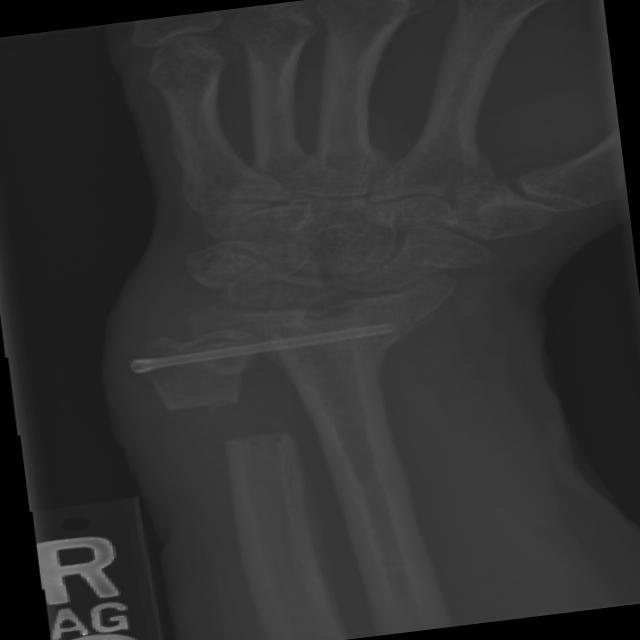fingers positive: (102, 340, 411, 501)
